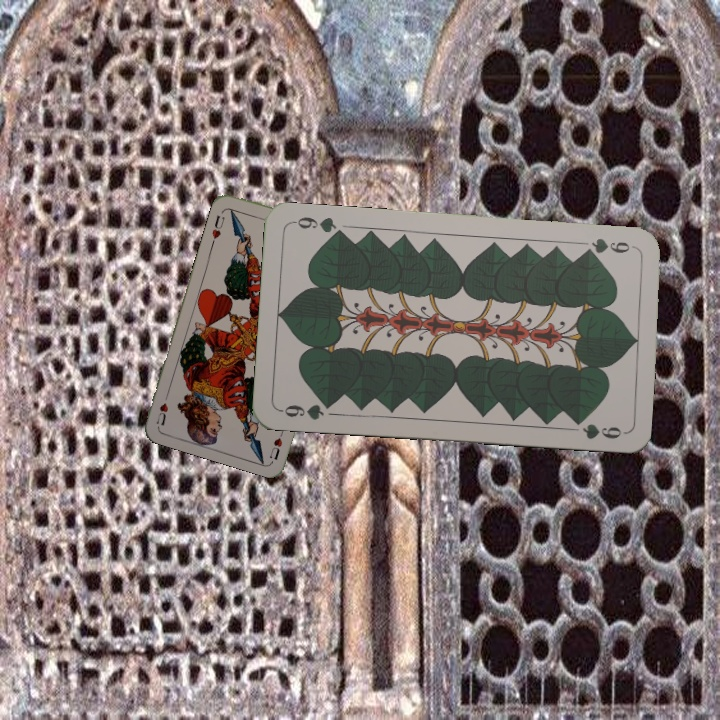G9: (276, 397, 336, 422), (579, 234, 637, 257)
HU: (266, 423, 287, 462), (208, 211, 227, 247)
